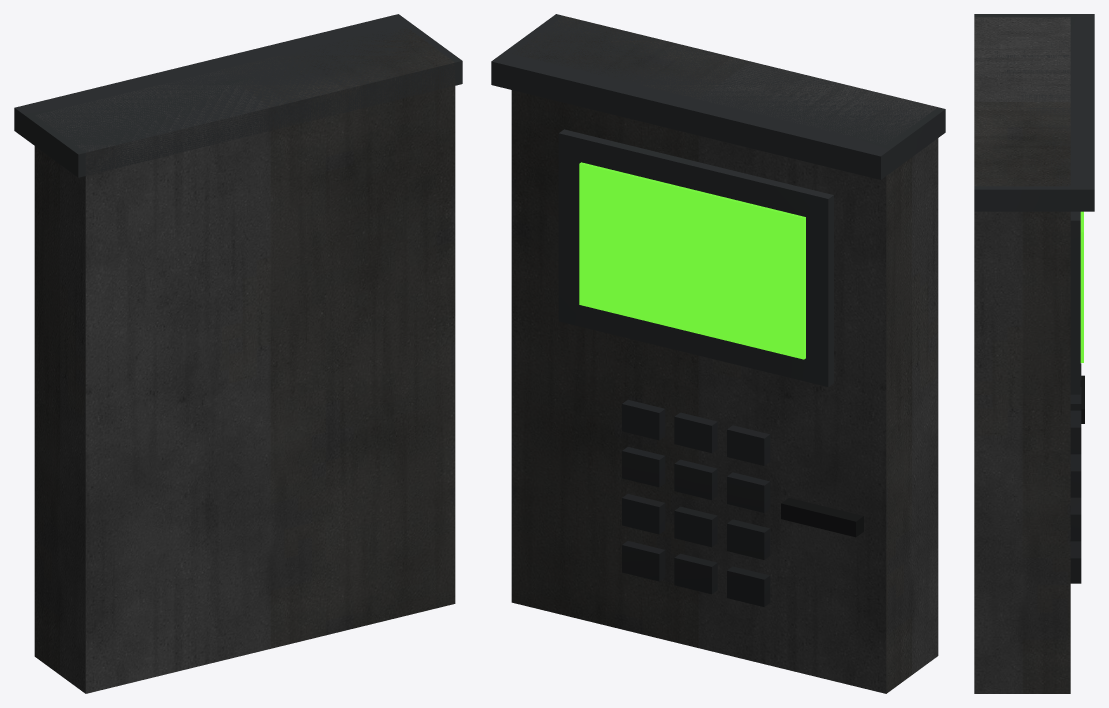
The model's file is gate_panel.glb.
3 renders of one model, left to right at view 1: azimuth 30°, elevation 25°; view 2: azimuth 150°, elevation 25°; view 3: azimuth 270°, elevation 25°, orthographic. The views are drawn at different scales.
Parts seen in each view (by area): view 1: gate_panel__surface_metal, gate_panel; view 2: gate_panel__surface_metal, gate_panel, gate_panel__glow_accent; view 3: gate_panel__surface_metal, gate_panel, gate_panel__glow_accent.
Boxes of the visible parts, bbox=[...] form: gate_panel__surface_metal: bbox=[34, 26, 455, 693]; gate_panel: bbox=[14, 14, 462, 177]; gate_panel__surface_metal: bbox=[511, 16, 938, 693]; gate_panel: bbox=[491, 14, 945, 606]; gate_panel__glow_accent: bbox=[579, 162, 805, 359]; gate_panel__surface_metal: bbox=[974, 17, 1070, 693]; gate_panel: bbox=[974, 14, 1094, 583]; gate_panel__glow_accent: bbox=[1080, 211, 1083, 362].
Size of the model in its own units: 0.52 by 0.7 by 0.15.
3 materials, 1 textured.
